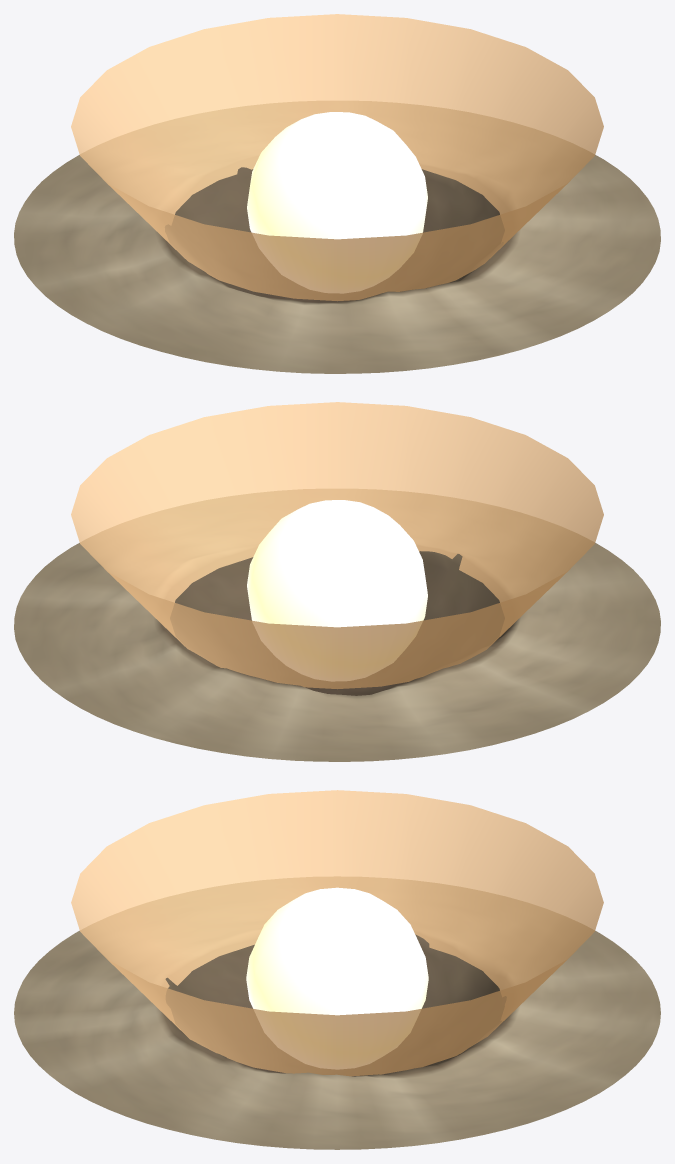
File: impact-b50.glb
The picture shows the model from 3 angles, top to bottom: view 1: azimuth 30°, elevation 25°; view 2: azimuth 150°, elevation 25°; view 3: azimuth 270°, elevation 25°; orthographic projection.
Visible parts, largest first — view 1: transient-bowl, ejecta-curtain, fireball; view 2: transient-bowl, ejecta-curtain, fireball; view 3: transient-bowl, ejecta-curtain, fireball.
Boxes of the visible parts, x1=… form: transient-bowl: x1=14, y1=101, x2=660, y2=373; ejecta-curtain: x1=71, y1=14, x2=603, y2=301; fireball: x1=247, y1=112, x2=427, y2=292; transient-bowl: x1=14, y1=489, x2=660, y2=761; ejecta-curtain: x1=71, y1=402, x2=603, y2=689; fireball: x1=247, y1=500, x2=427, y2=680; transient-bowl: x1=14, y1=877, x2=660, y2=1149; ejecta-curtain: x1=71, y1=790, x2=603, y2=1076; fireball: x1=246, y1=887, x2=428, y2=1068.
Size of the model in its own units: 17 by 5.17 by 17.
